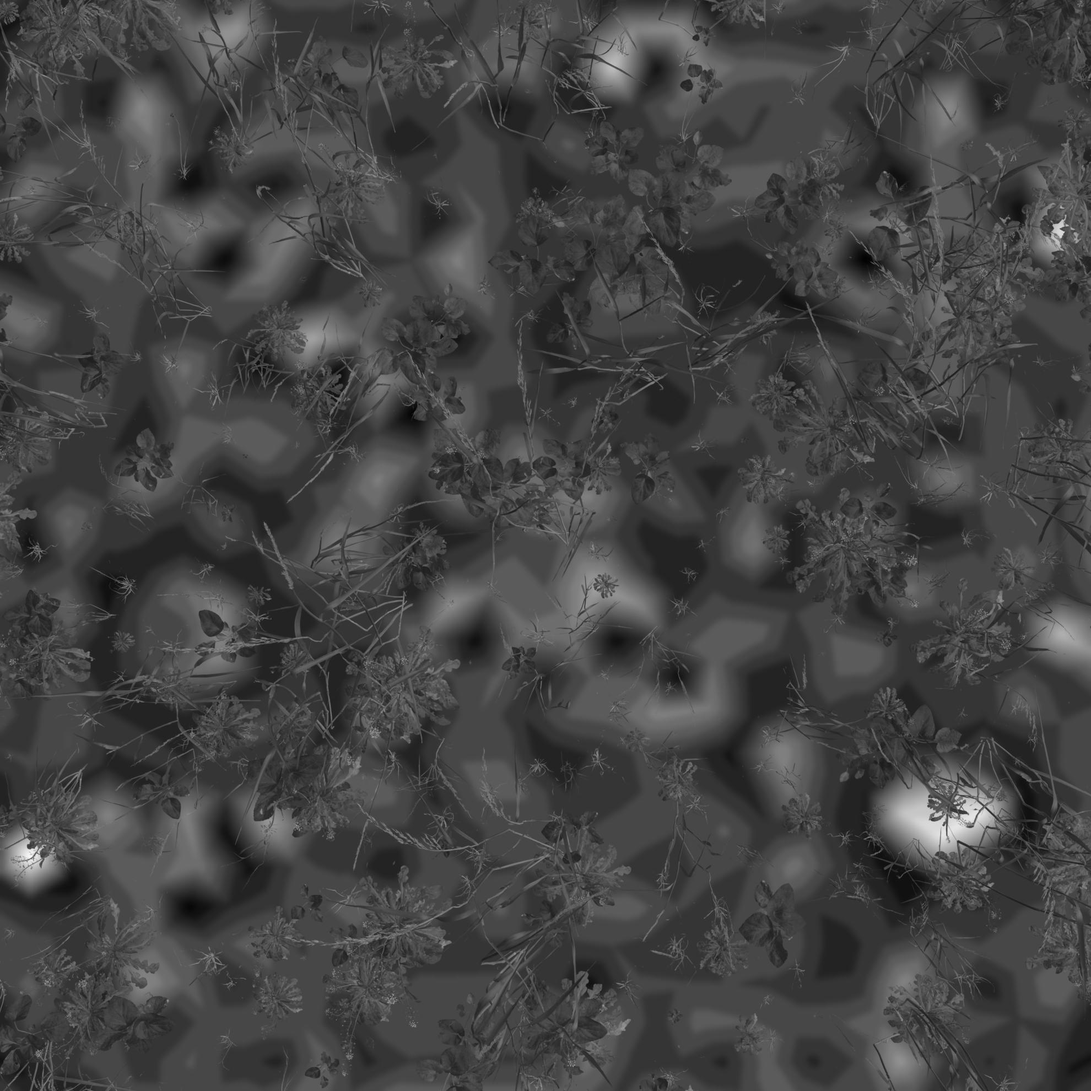landmine: (48, 522, 313, 748), (823, 697, 1057, 912), (539, 229, 724, 401)
